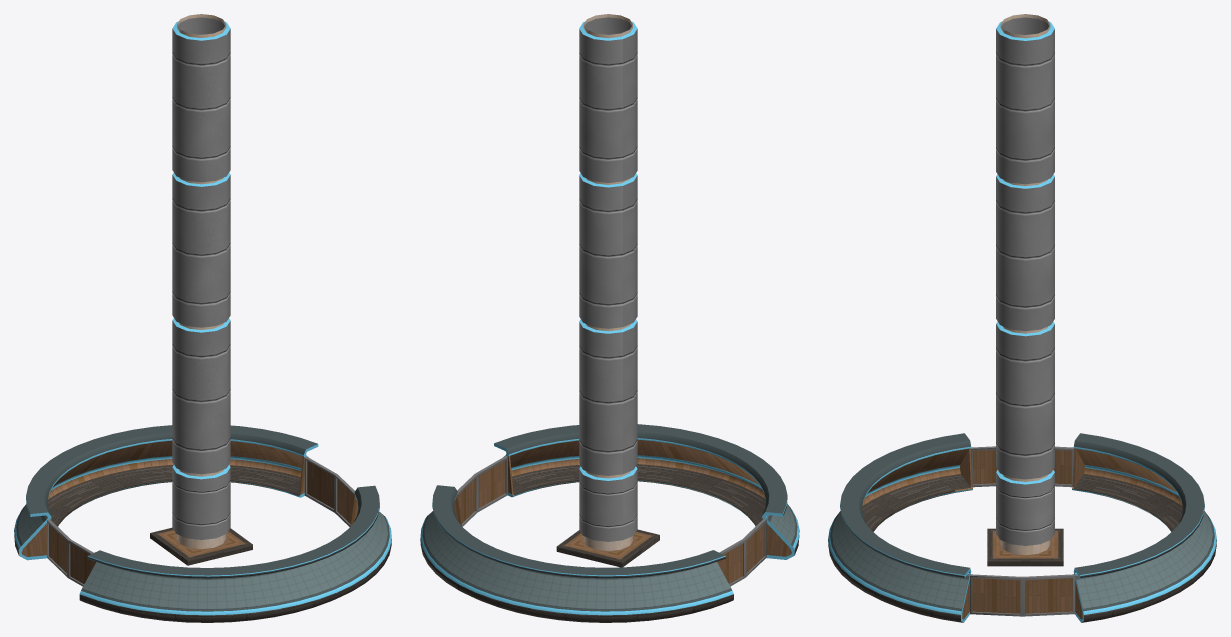
File: Atrium_Assets_01.fbx
3 views of the same model, side by side, from view 1: azimuth 30°, elevation 25°; view 2: azimuth 150°, elevation 25°; view 3: azimuth 270°, elevation 25° (orthographic).
Parts seen in each view (by area): view 1: Atrium_Assets_01; view 2: Atrium_Assets_01; view 3: Atrium_Assets_01.
Boxes of the visible parts, <box> form: Atrium_Assets_01: <box>14,14,391,622</box>; Atrium_Assets_01: <box>420,14,799,622</box>; Atrium_Assets_01: <box>828,14,1216,622</box>.
Bounding box in the file's own units: 904 × 1460 × 978.
